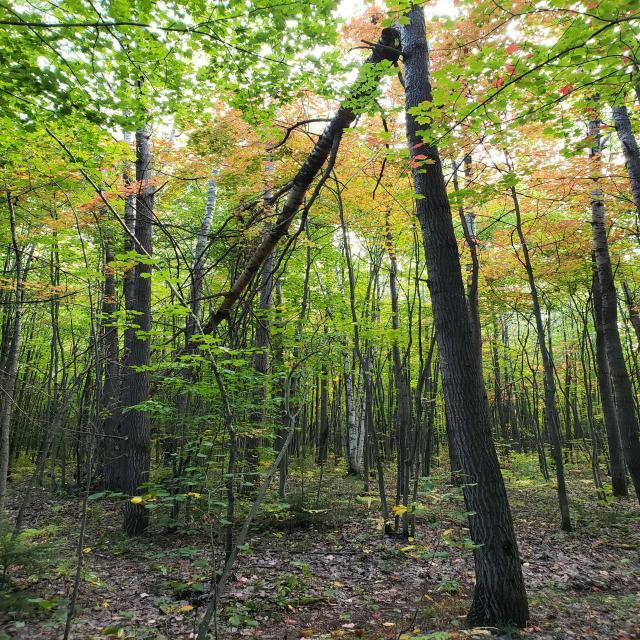fallen_object: (148, 5, 506, 463)
